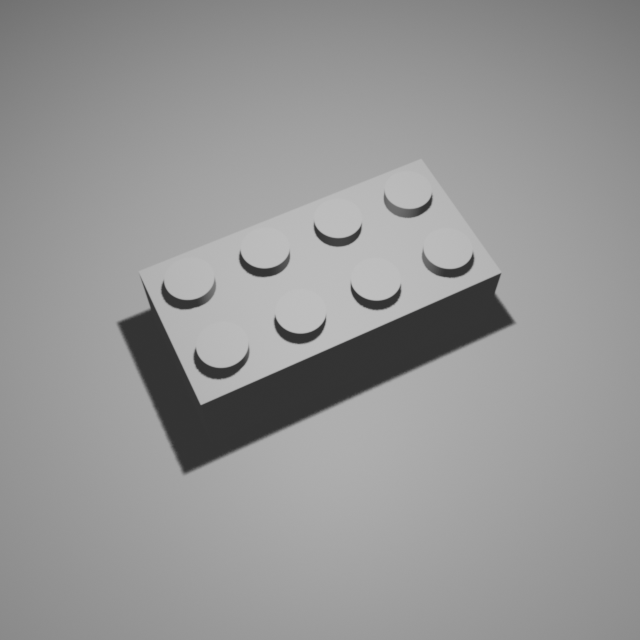lego_2x4: (135, 149, 505, 444)
